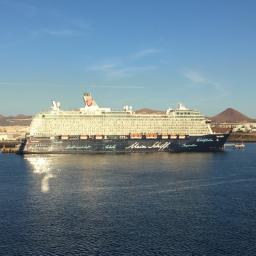cruises: (15, 92, 231, 156)
